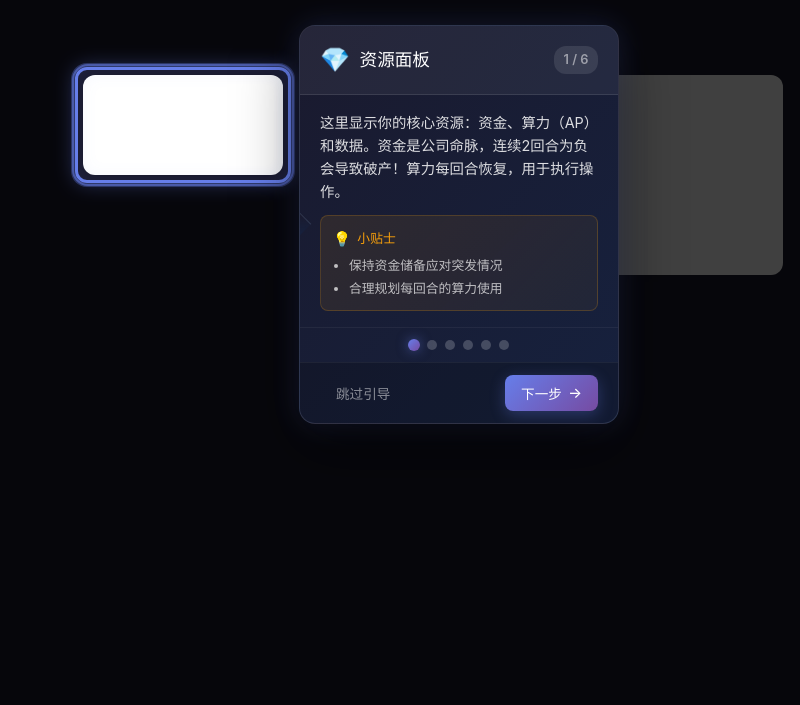
OnboardingGuide 组件单元测试 › 步骤推进功能 › 点击下一步应该推进到下一个步骤
Check: the heading "资源面板" is shown, box [360, 47, 430, 73]
Click the button "下一步 →": {"x": 552, "y": 393} [505, 375, 598, 411]
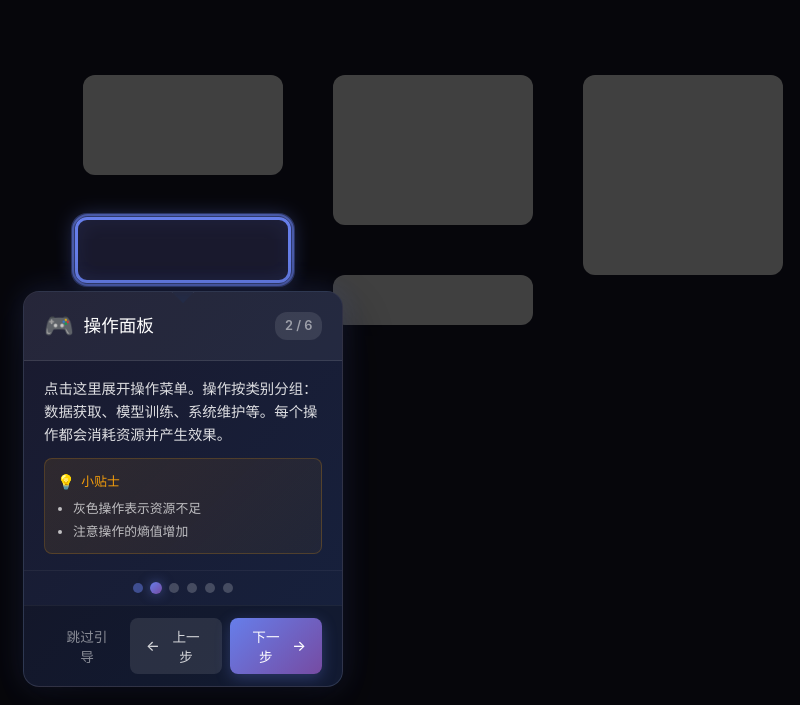
Check: the heading "操作面板" is shown, box [84, 313, 154, 339]
